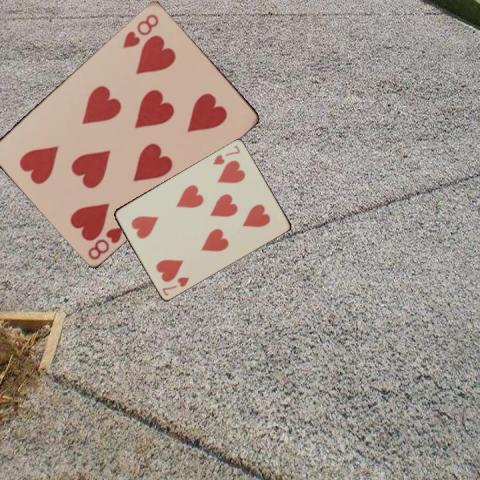7h: (209, 142, 242, 166), (159, 273, 191, 297)
8h: (120, 10, 160, 49), (84, 224, 125, 262)
